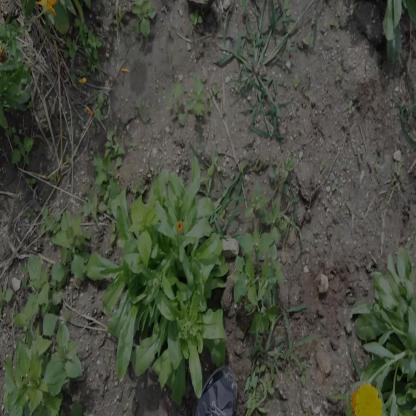marigold: (348, 382, 383, 414)
